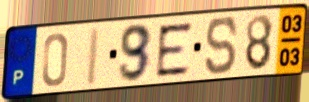0: (41, 31, 70, 89)
8: (244, 13, 274, 72)
9: (117, 22, 155, 84)
E: (155, 20, 194, 80)
I: (84, 25, 103, 88)
S: (204, 15, 240, 78)
